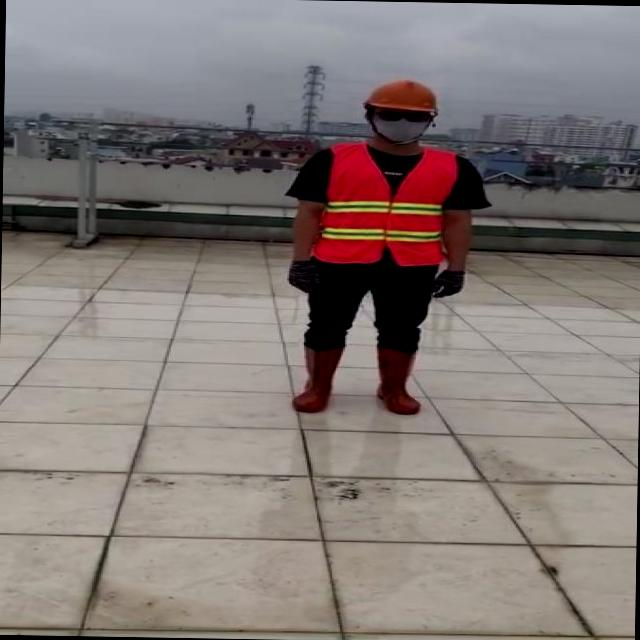boots: (285, 344, 348, 414), (374, 346, 424, 414)
gloves: (285, 256, 319, 294), (428, 264, 463, 300)
helmet: (365, 78, 443, 112)
vest: (316, 145, 458, 266)
